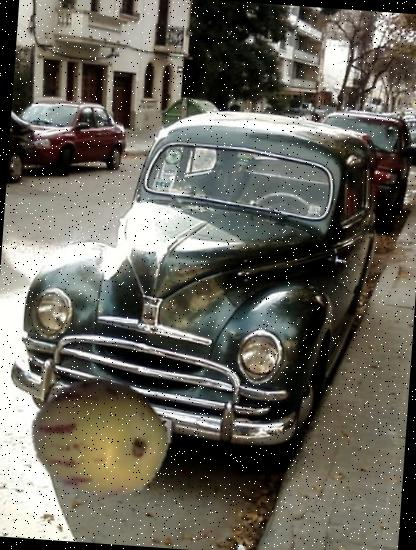Pepino: (31, 370, 171, 509)
